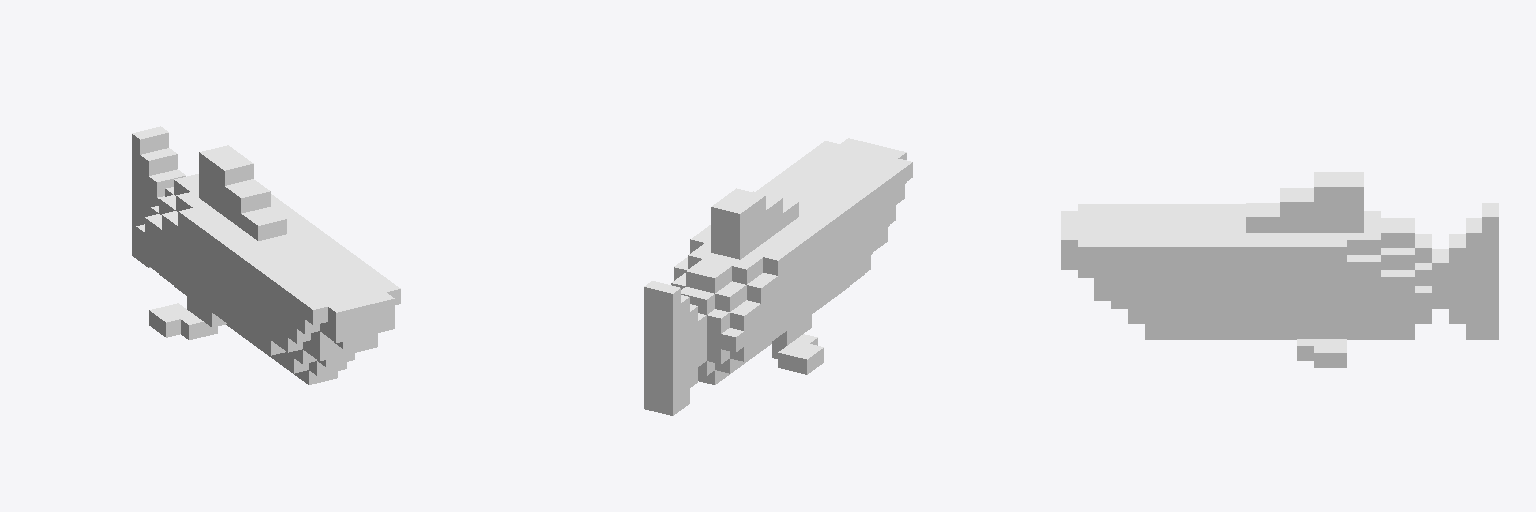
File: Shark0.obj
3 renders of one model, left to right at view 1: azimuth 30°, elevation 25°; view 2: azimuth 150°, elevation 25°; view 3: azimuth 270°, elevation 25°, orthographic.
Parts seen in each view (by area): view 1: object 1; view 2: object 1; view 3: object 1.
Part boxes in pixels (bbox=[...]): object 1: bbox=[132, 126, 400, 384]; object 1: bbox=[644, 138, 912, 415]; object 1: bbox=[1061, 172, 1498, 367].
Bounding box in the file's own units: 1 × 1 × 2.6.